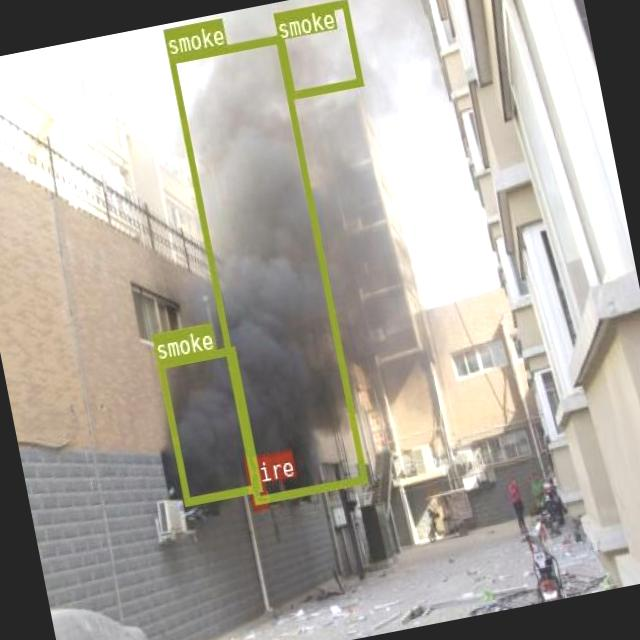fire: (248, 482, 268, 508)
smoke: (168, 34, 367, 504), (158, 346, 262, 504), (272, 0, 362, 98)
